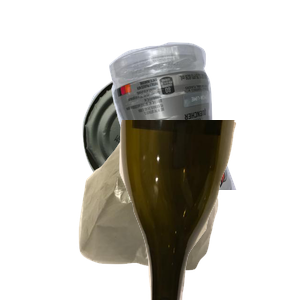glass: (117, 120, 300, 300)
metal: (80, 68, 284, 248)
plastic: (106, 40, 300, 220)
trash: (76, 124, 287, 300)
